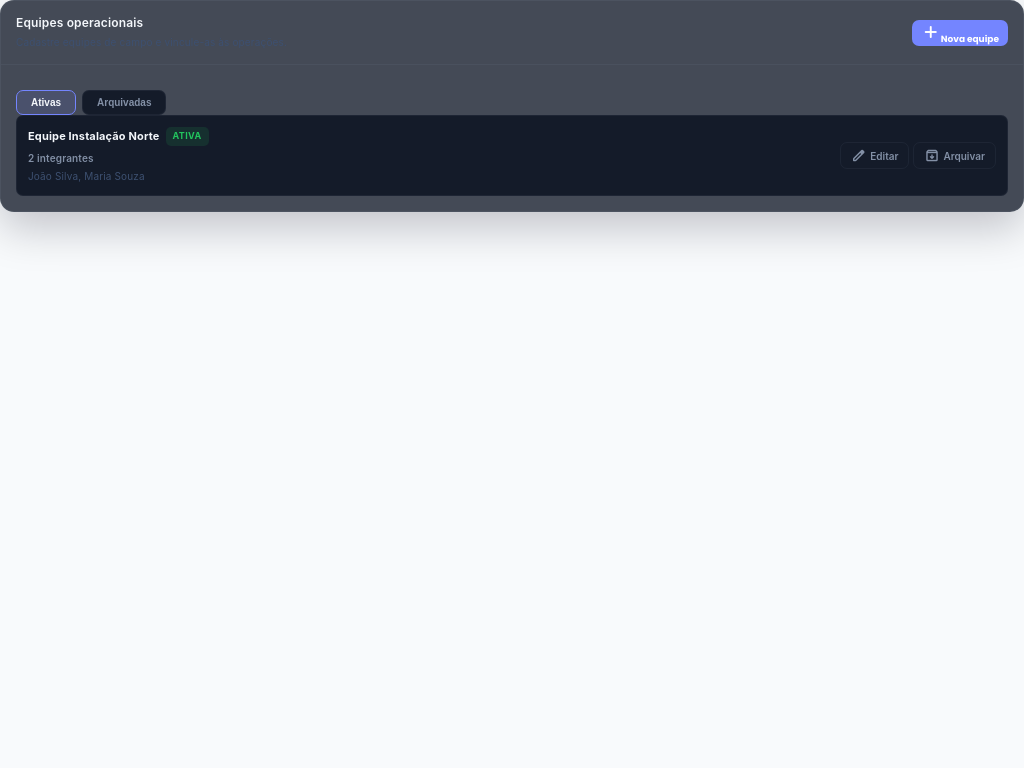
Test: OperationTeamsPanel › abre o formulário de equipe ao clicar em "Nova equipe"
What coordinates should you click on to do the following:
click the button with test id "operation-team-new-btn"
I would click on:
 (960, 33)
Its box is left=912, top=20, right=1008, bottom=46.
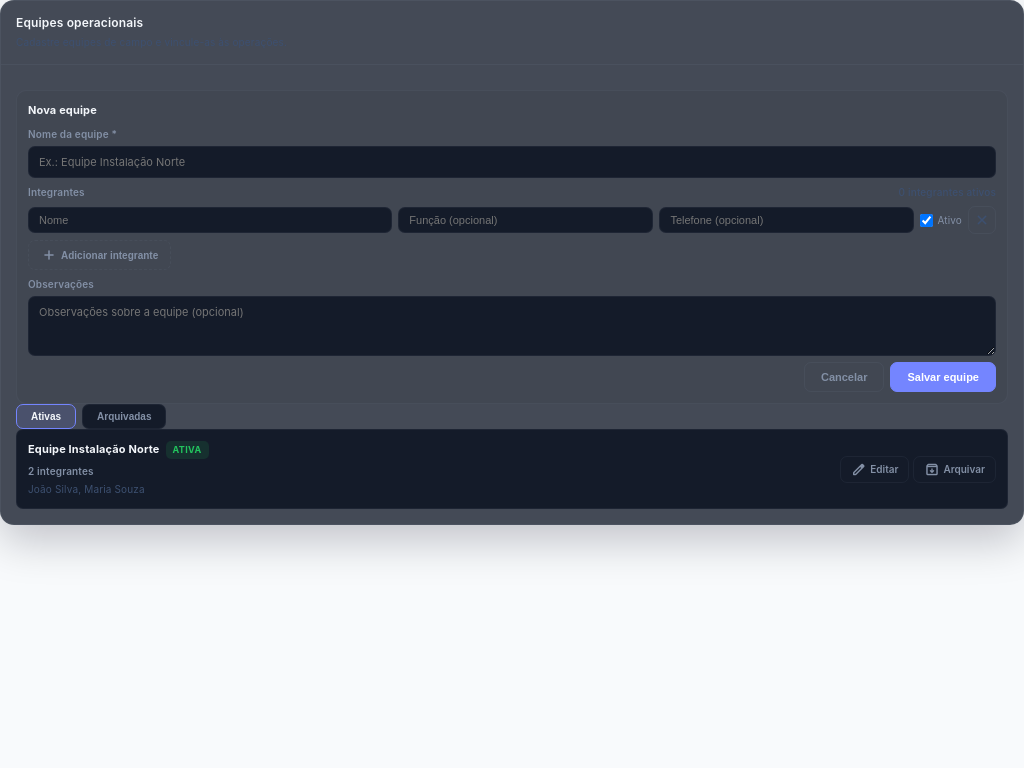
Expected: the heading "Nova equipe" is shown, left=28, top=103, right=97, bottom=117
Expected: the form with test id "operation-team-form" is shown, left=16, top=90, right=1008, bottom=404
